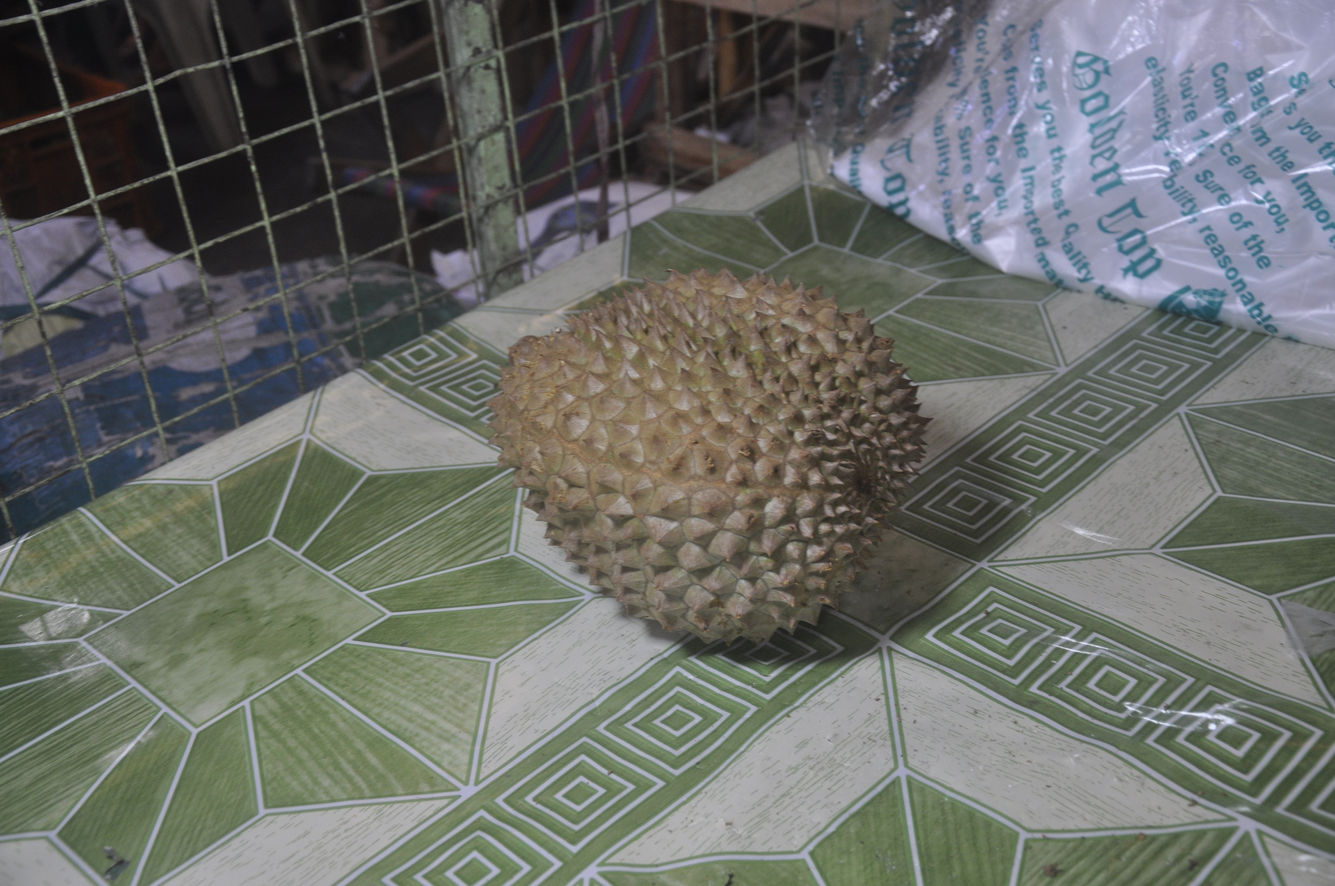mature: (489, 268, 966, 644)
